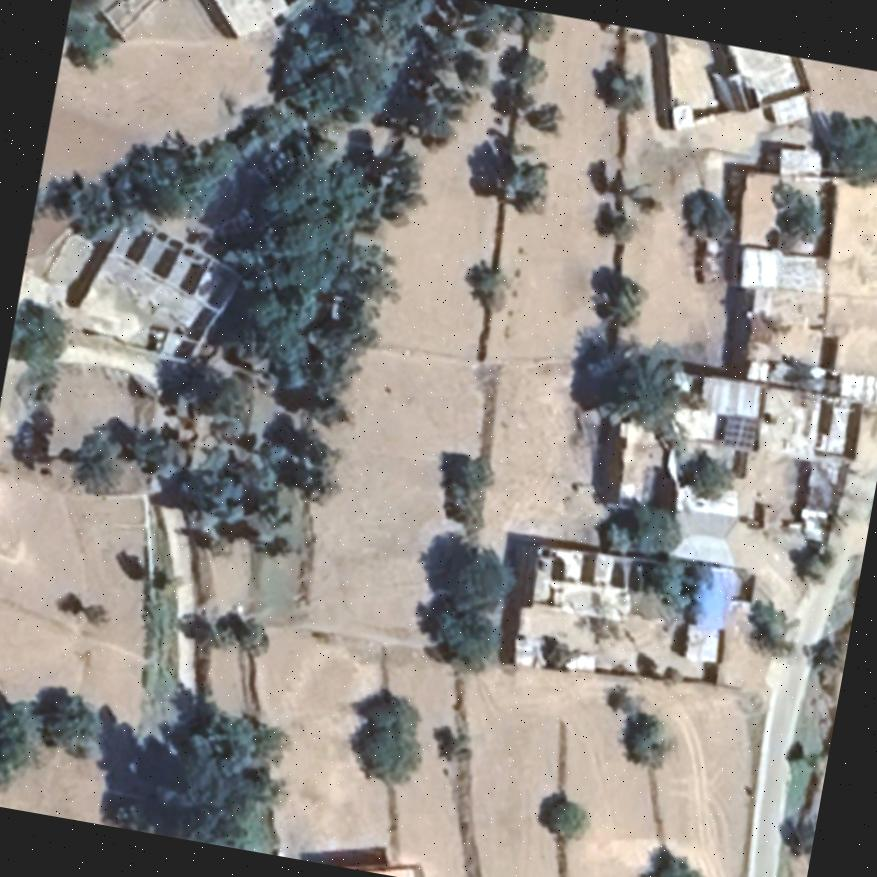Solarpanel: (719, 410, 761, 452)
